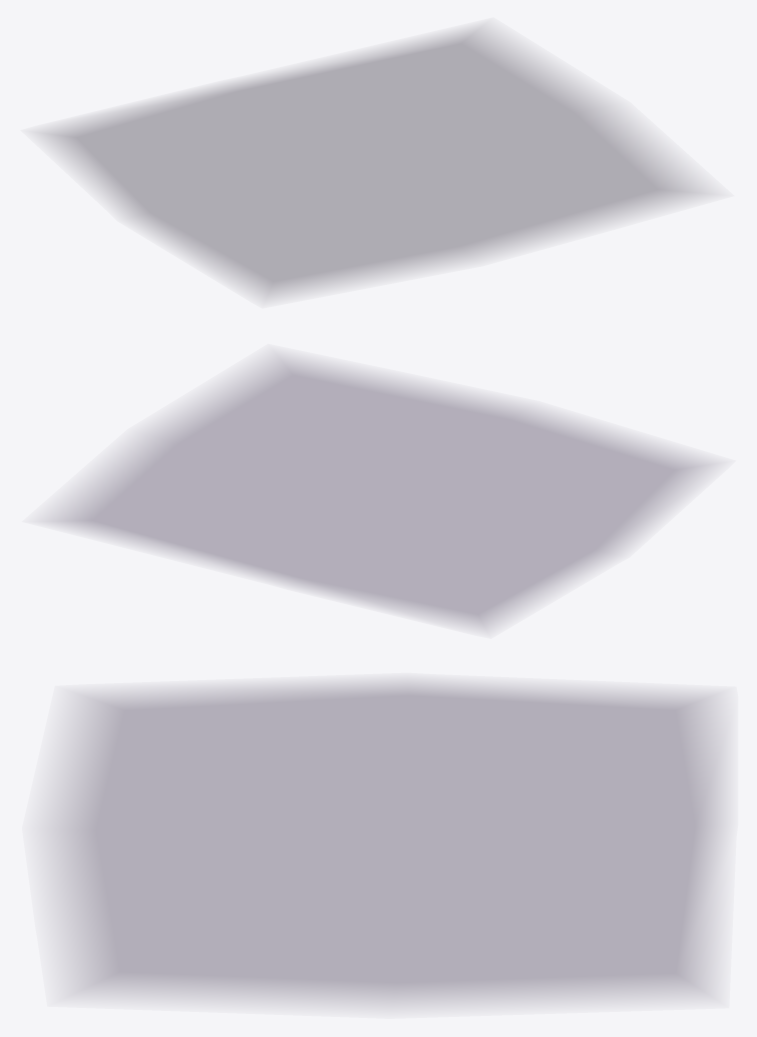
3 renders of one model, top to bottom at view 1: azimuth 30°, elevation 25°; view 2: azimuth 150°, elevation 25°; view 3: azimuth 270°, elevation 25°, orthographic. The views are drawn at different scales.
Parts seen in each view (by area): view 1: Joint_0_Object_0; view 2: Joint_0_Object_0; view 3: Joint_0_Object_0.
Part boxes in pixels (box(x1,y1,x2,y2)): Joint_0_Object_0: box(44, 29, 701, 296); Joint_0_Object_0: box(52, 357, 709, 628); Joint_0_Object_0: box(53, 682, 719, 1003).
Size of the model in its own units: 1371 by 0 by 1198.
Materials: 1 (1 with a texture image).
